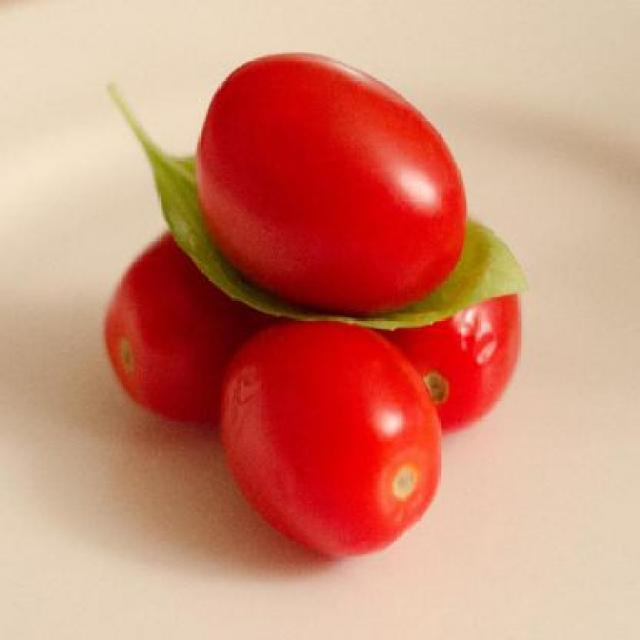Tomato: (194, 49, 468, 316), (198, 311, 444, 557), (110, 227, 298, 430), (381, 288, 524, 426)
